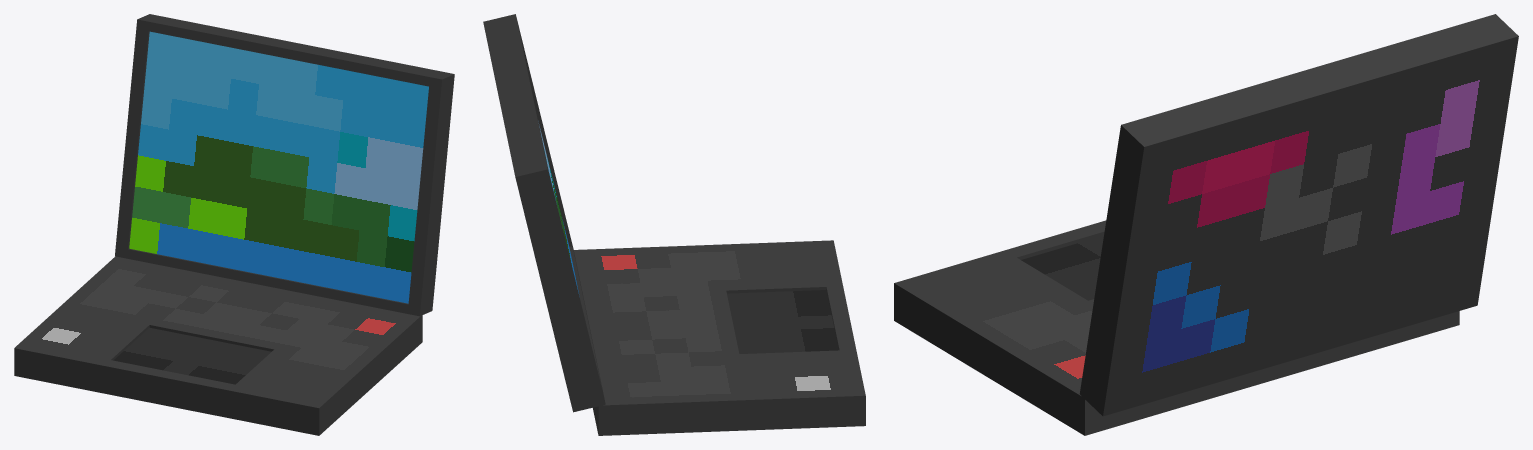
The picture shows the model from 3 angles, left to right: view 1: azimuth 30°, elevation 25°; view 2: azimuth 150°, elevation 25°; view 3: azimuth 270°, elevation 25°; orthographic projection. The views are drawn at different scales.
Parts seen in each view (by area): view 1: cuboid (×2), cuboid_selection; view 2: cuboid (×2), cuboid_selection; view 3: cuboid (×2).
Part boxes in pixels (x1,y1,x2,y2): cuboid (×2): (14,14,454,435); cuboid_selection: (129,31,428,303); cuboid (×2): (483,14,865,435); cuboid_selection: (538,121,579,296); cuboid (×2): (894,14,1518,435).
Size of the model in its own units: 0.9315 by 0.5521 by 0.9393.
Materials: 1 (1 with a texture image).
